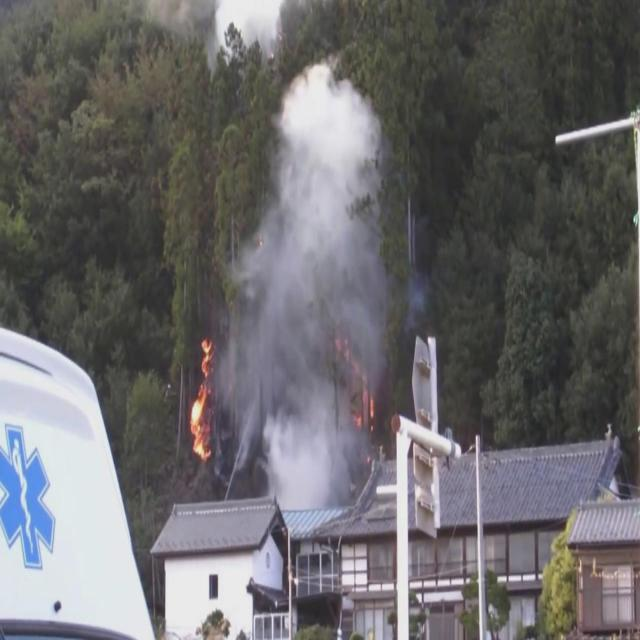Fire: (332, 334, 376, 428), (187, 338, 219, 458)
